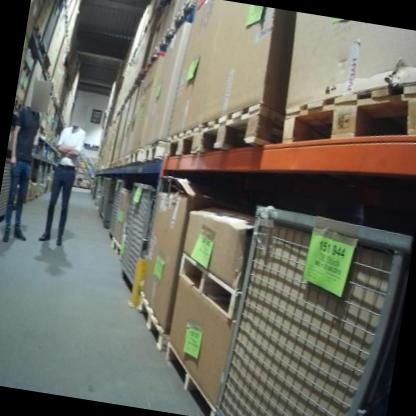pallet: (280, 61, 416, 168), (130, 291, 224, 416), (193, 91, 285, 167), (170, 254, 244, 321), (164, 120, 202, 163), (142, 137, 165, 167), (127, 146, 143, 166), (109, 238, 123, 257), (32, 24, 44, 46), (13, 95, 24, 110)
stillage: (200, 191, 414, 416), (111, 176, 165, 297), (37, 0, 64, 63), (0, 156, 21, 232), (104, 178, 127, 245), (100, 177, 114, 225), (95, 174, 107, 221)
